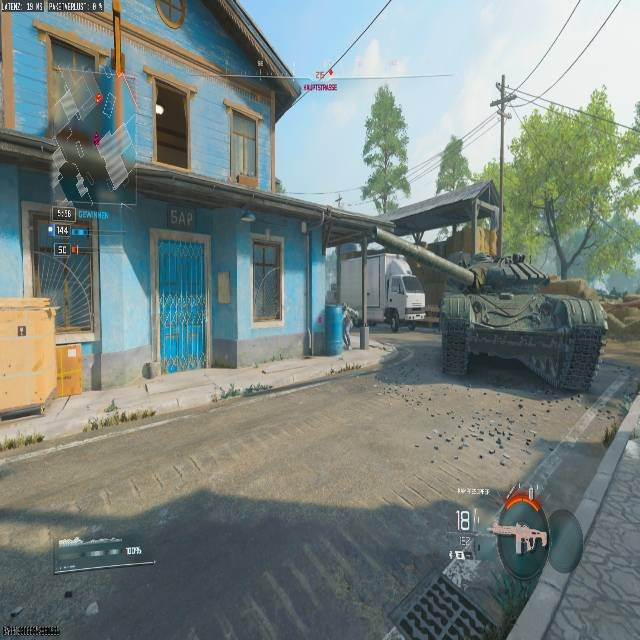player: (48, 104, 129, 201), (341, 303, 356, 350), (385, 305, 399, 332)
